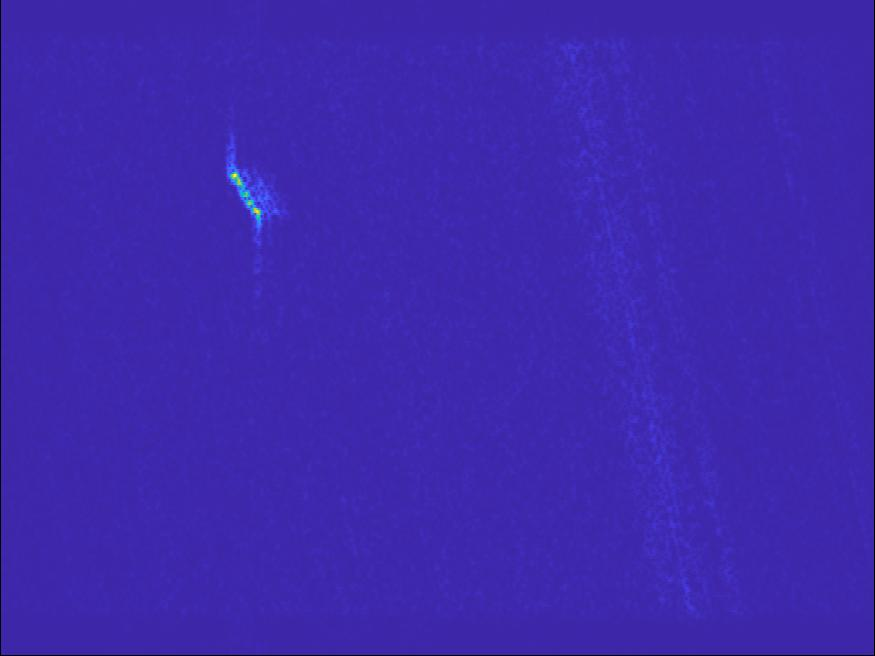Interference: (63, 542, 205, 656), (106, 1, 281, 67), (206, 292, 329, 346), (378, 511, 489, 555)
